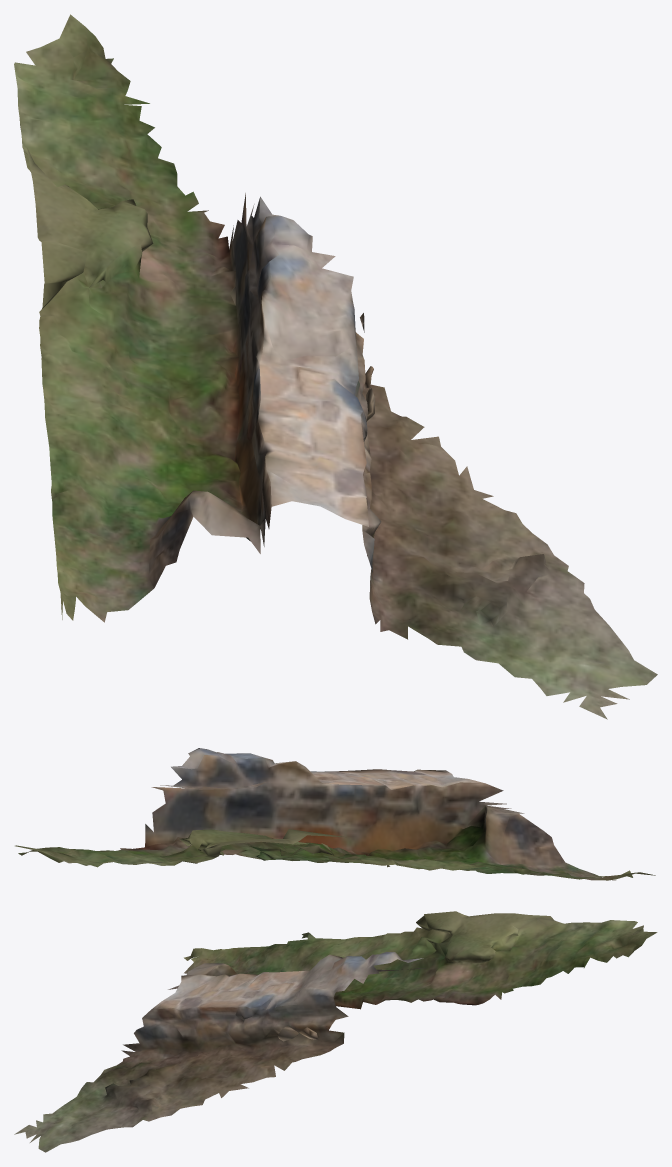
File: cpuzzle500_8.glb
The picture shows the model from 3 angles, top to bottom: view 1: azimuth 30°, elevation 25°; view 2: azimuth 150°, elevation 25°; view 3: azimuth 270°, elevation 25°; orthographic projection. The views are drawn at different scales.
Visible parts, largest first — view 1: Mesh_0.007; view 2: Mesh_0.007; view 3: Mesh_0.007.
Boxes of the visible parts, bbox=[...] form: Mesh_0.007: bbox=[14, 14, 657, 719]; Mesh_0.007: bbox=[15, 748, 655, 880]; Mesh_0.007: bbox=[14, 911, 657, 1152].
Bounding box in the file's own units: 7 × 4.46 × 13.1.
1 material, 1 textured.
